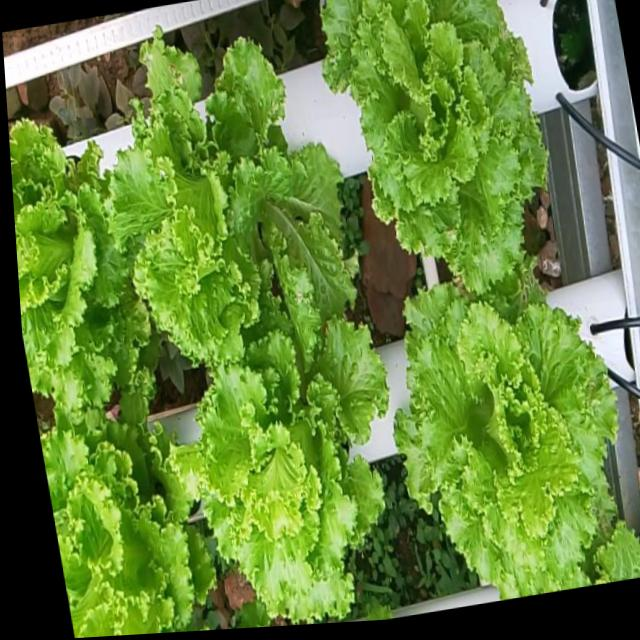Mature: (96, 36, 351, 376), (388, 292, 640, 602), (317, 0, 548, 306), (170, 311, 383, 627), (8, 113, 138, 409), (38, 412, 203, 638)
